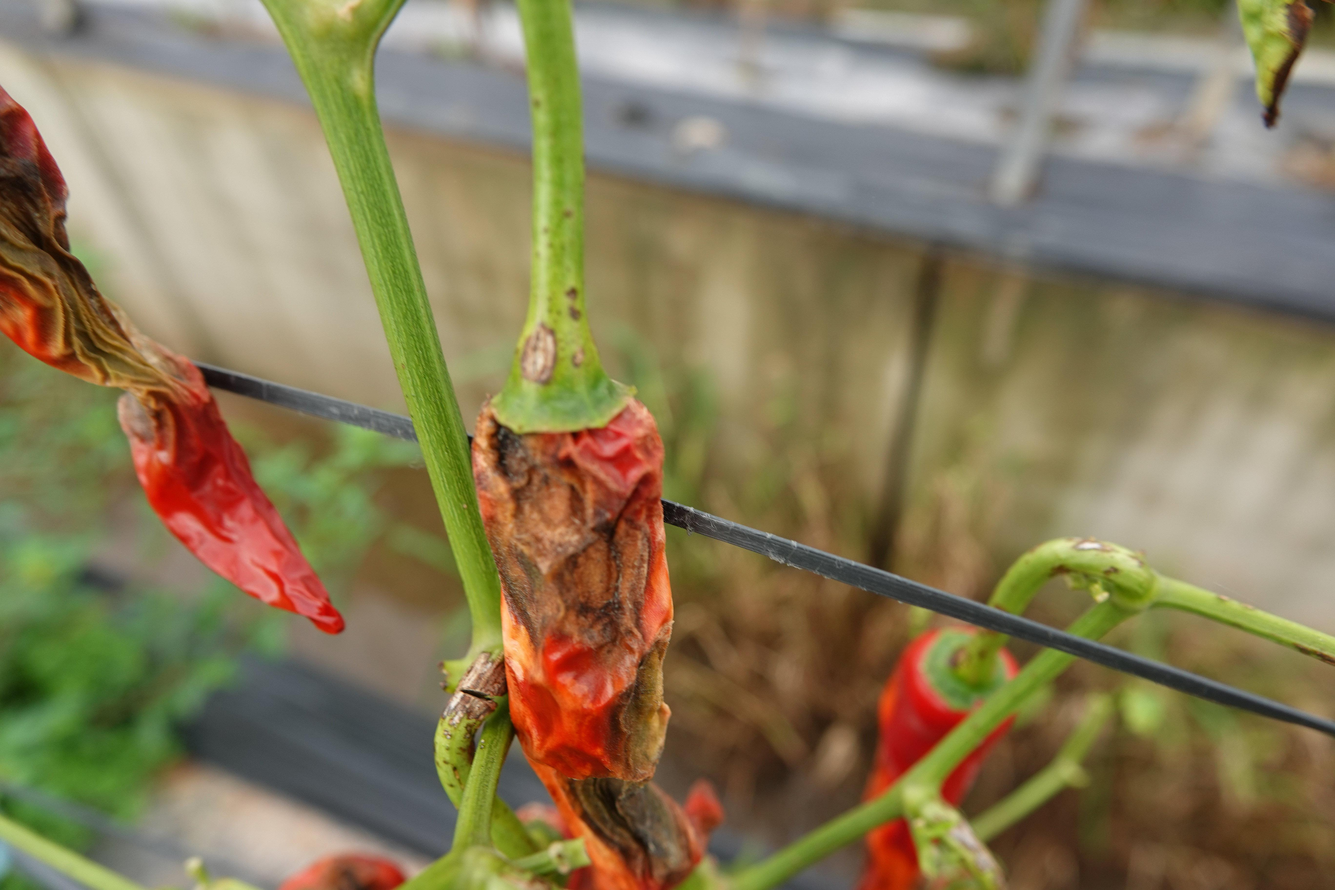Busuk Buah Antraknosa: (1, 83, 348, 638), (467, 382, 725, 888)
